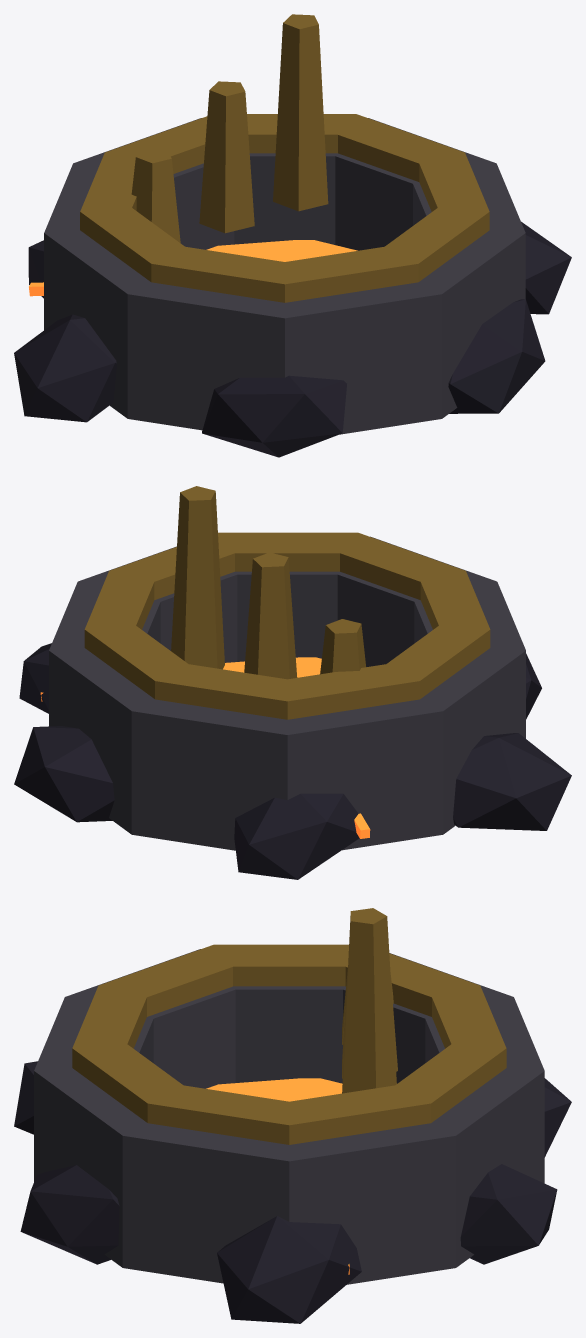
The model's file is Brimstone_Vent.glb.
3 renders of one model, top to bottom at view 1: azimuth 30°, elevation 25°; view 2: azimuth 150°, elevation 25°; view 3: azimuth 270°, elevation 25°, orthographic. The views are drawn at different scales.
Parts seen in each view (by area): view 1: Brimstone_Vent; view 2: Brimstone_Vent; view 3: Brimstone_Vent.
Boxes of the visible parts, x1,y1,x2,y2 form: Brimstone_Vent: [14, 14, 571, 457]; Brimstone_Vent: [14, 486, 571, 879]; Brimstone_Vent: [14, 908, 571, 1323].
Size of the model in its own units: 2.11 by 1.13 by 1.8.
